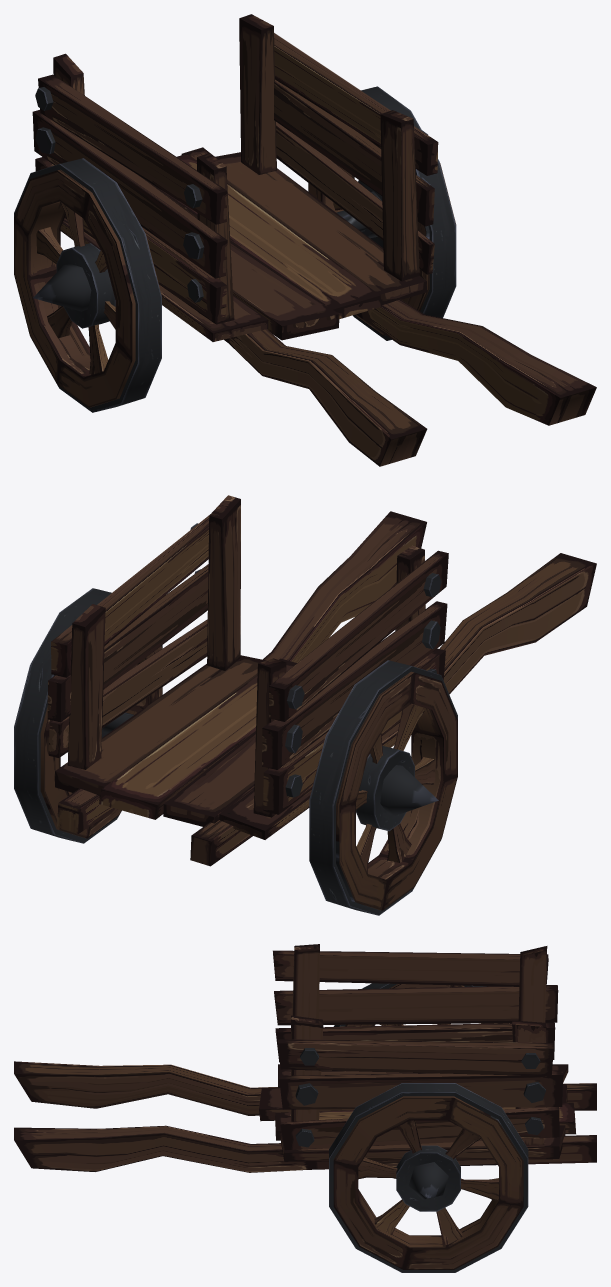
File: SM_PROP_cart_dungeon_01.fbx
3 renders of one model, top to bottom at view 1: azimuth 30°, elevation 25°; view 2: azimuth 150°, elevation 25°; view 3: azimuth 270°, elevation 25°, orthographic. The views are drawn at different scales.
Visible parts, largest first — view 1: SM_PROP_cart_dungeon_01, SM_PROP_cart_01_wheel_R, SM_PROP_cart_01_wheel_L; view 2: SM_PROP_cart_dungeon_01, SM_PROP_cart_01_wheel_R, SM_PROP_cart_01_wheel_L; view 3: SM_PROP_cart_dungeon_01, SM_PROP_cart_01_wheel_L, SM_PROP_cart_01_wheel_R.
Boxes of the visible parts, x1,y1,x2,y2 form: SM_PROP_cart_dungeon_01: [32, 14, 596, 466]; SM_PROP_cart_01_wheel_R: [14, 158, 161, 412]; SM_PROP_cart_01_wheel_L: [308, 86, 456, 340]; SM_PROP_cart_dungeon_01: [47, 495, 596, 866]; SM_PROP_cart_01_wheel_R: [309, 660, 457, 915]; SM_PROP_cart_01_wheel_L: [14, 588, 162, 843]; SM_PROP_cart_dungeon_01: [14, 944, 596, 1199]; SM_PROP_cart_01_wheel_L: [329, 1083, 528, 1272]; SM_PROP_cart_01_wheel_R: [333, 983, 508, 1026].
Bounding box in the file's own units: 335 × 223 × 518.
